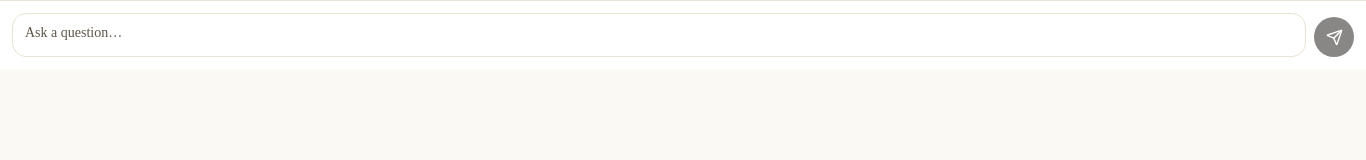
Test: Composer › sends trimmed text on Enter and clears the field
Type "  Where can I volunteer?  " into the text box with test id "ai-agent-input" at (659, 35), box top-left (12, 13), bottom-right (1306, 57)
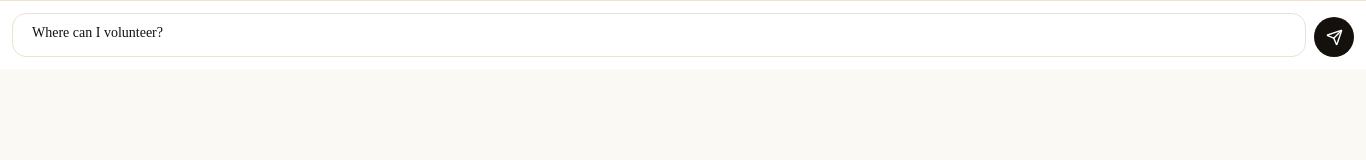
Press Enter in the text box with test id "ai-agent-input", box top-left (12, 13), bottom-right (1306, 57)
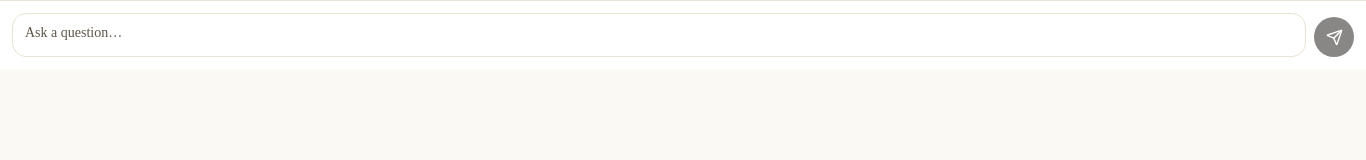
Check: the text box with test id "ai-agent-input" is empty, box top-left (12, 13), bottom-right (1306, 57)
